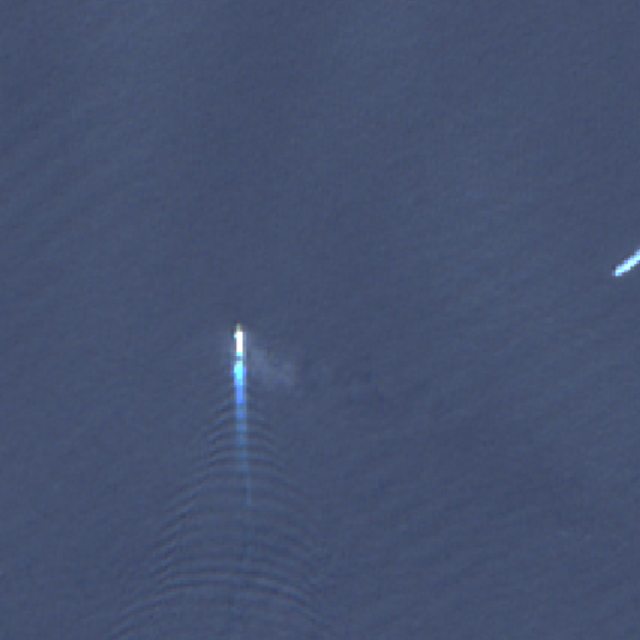wake: (162, 303, 322, 589)
